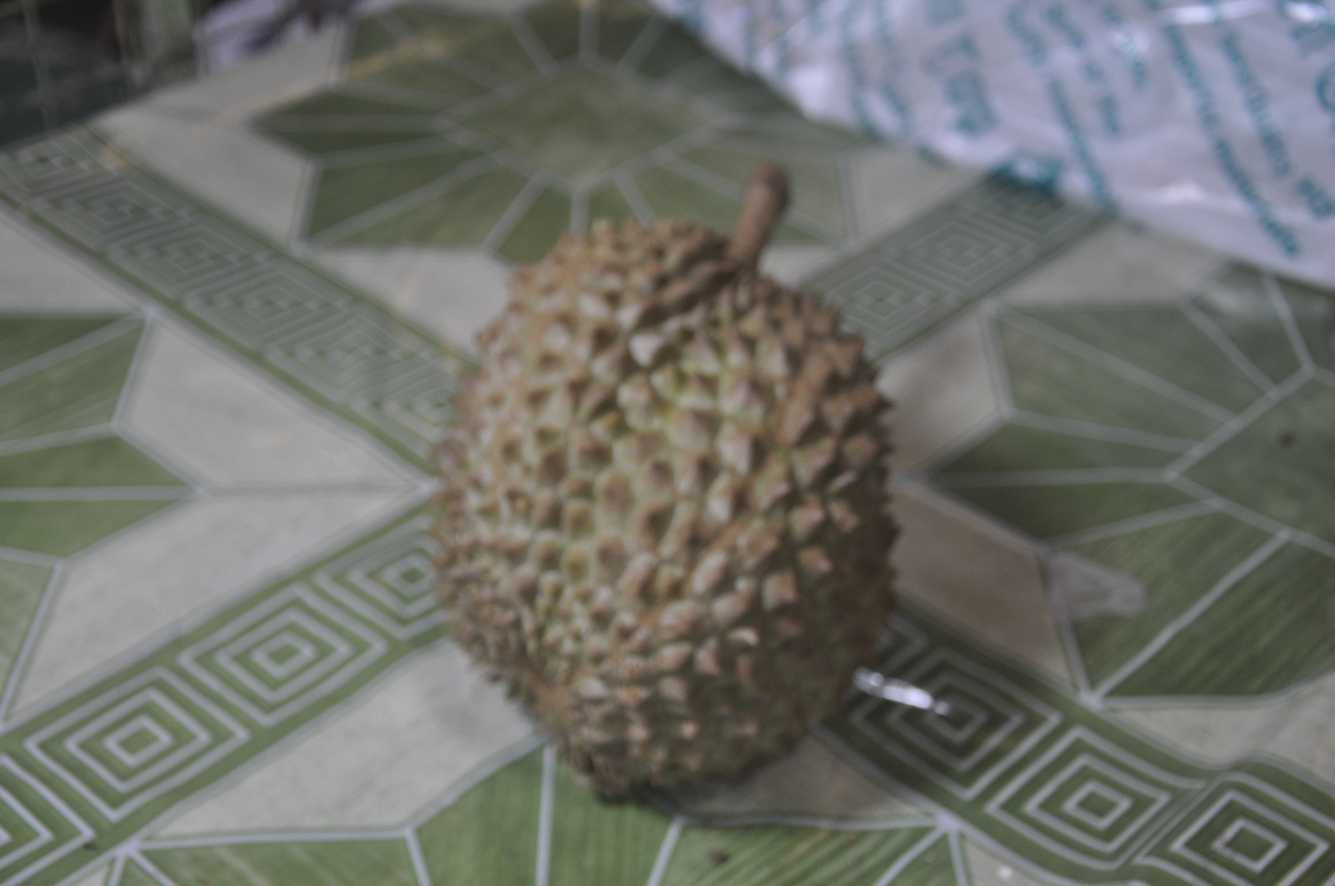mature: (395, 128, 924, 807)
